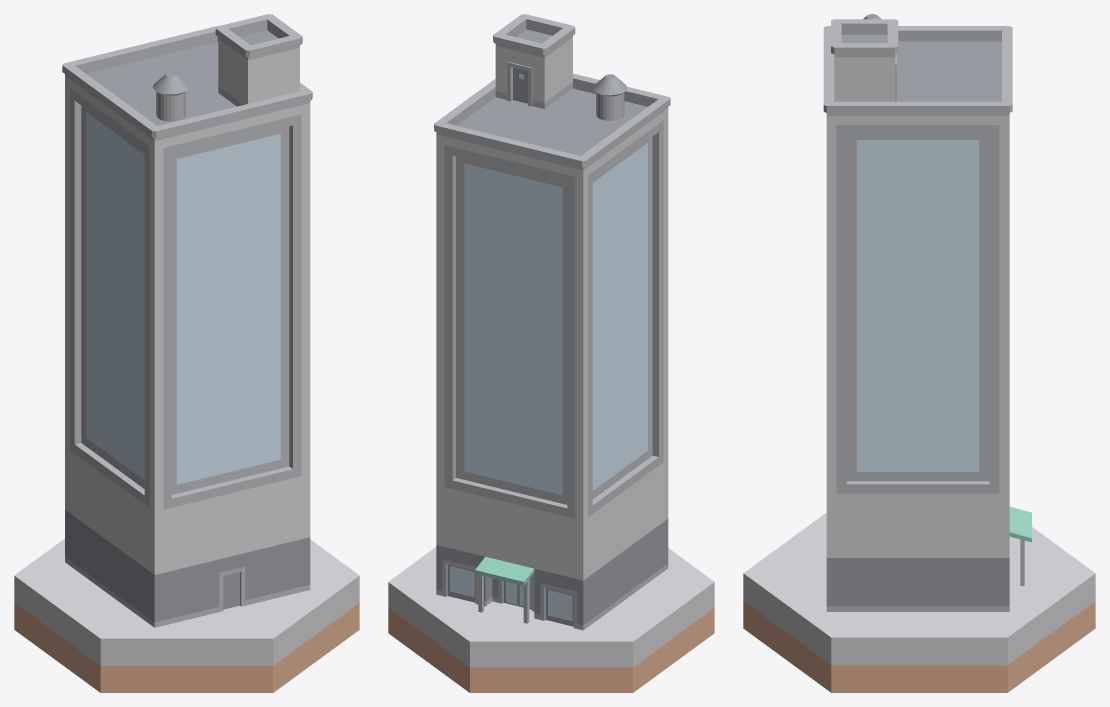
The model's file is skyscraper_4_high.fbx.
3 renders of one model, left to right at view 1: azimuth 30°, elevation 25°; view 2: azimuth 150°, elevation 25°; view 3: azimuth 270°, elevation 25°, orthographic. The views are drawn at different scales.
Parts seen in each view (by area): view 1: skyscraperC, pavement_high.006; view 2: skyscraperC, pavement_high.006; view 3: skyscraperC, pavement_high.006.
Part boxes in pixels (x1,y1,x2,y2): skyscraperC: [62, 14, 312, 627]; pavement_high.006: [14, 538, 359, 692]; skyscraperC: [434, 14, 670, 630]; pavement_high.006: [388, 547, 714, 692]; skyscraperC: [823, 14, 1031, 611]; pavement_high.006: [743, 512, 1095, 692].
Bounding box in the file's own units: 100 × 223 × 115.
